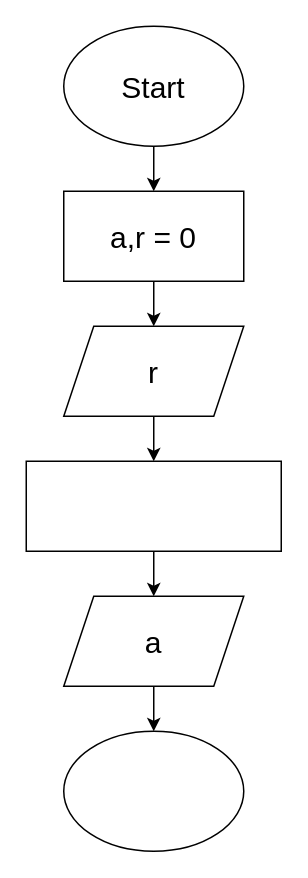
Image size: 308x878. Some labels were removed from this diagram. The shapes that lost their labels are listed below. From the top down, each one's box as (x1, y1, x2, y2) in pixels, then its label:
(25, 460, 281, 551): a = 3.14 * (r * r)
(62, 730, 244, 851): End
